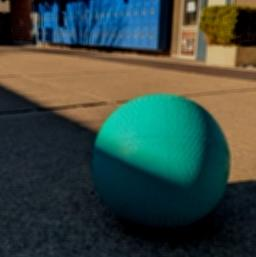algae: (100, 92, 228, 229)
